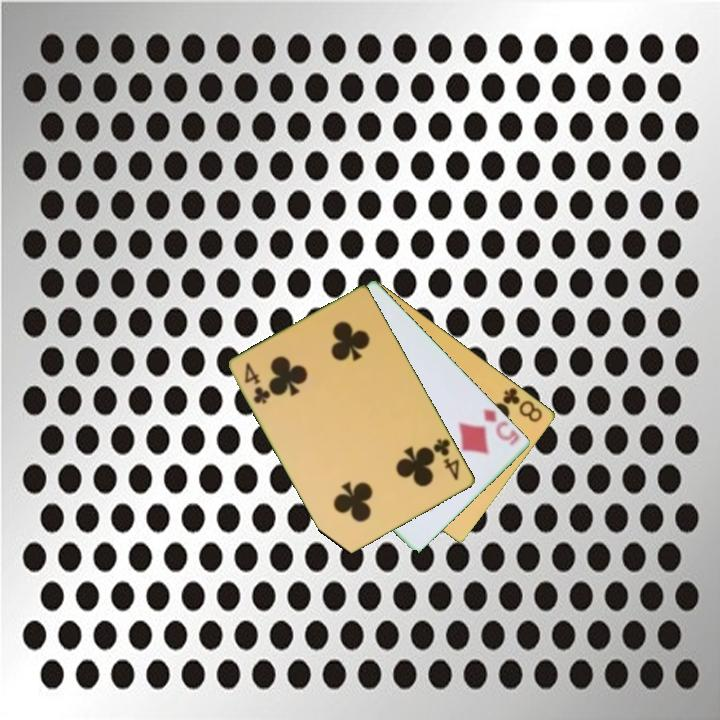4c: (430, 435, 463, 483), (241, 359, 273, 407)
5d: (480, 405, 523, 448)
8c: (499, 384, 546, 425)
